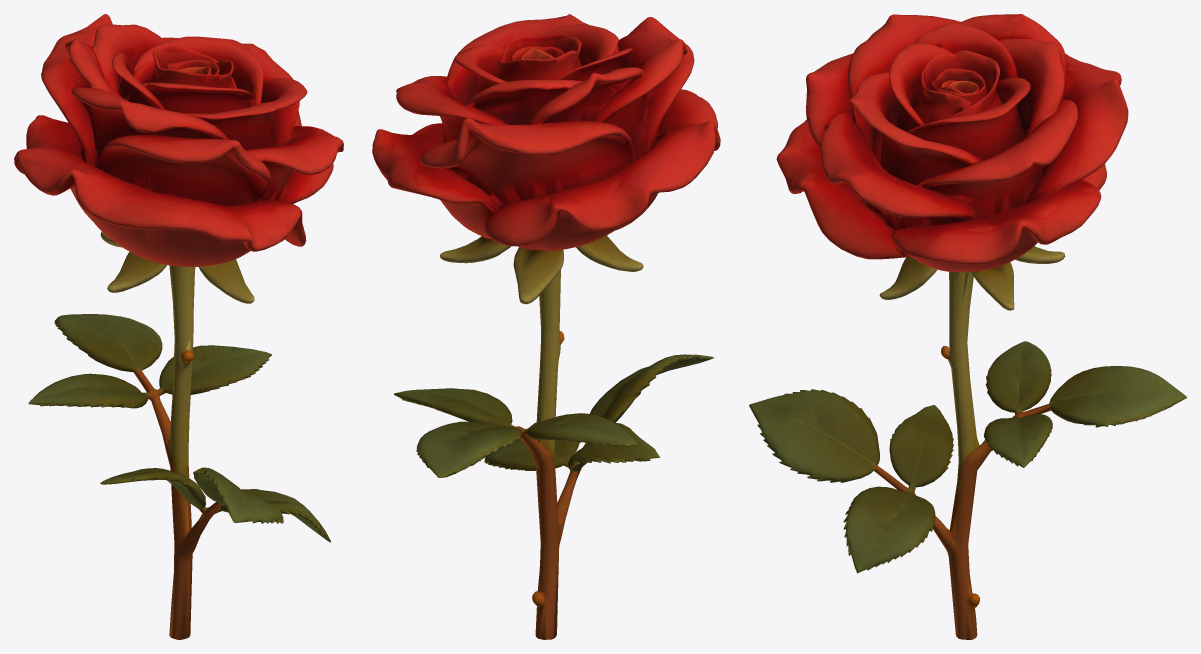
The model's file is Red Rose.glb.
3 renders of one model, left to right at view 1: azimuth 30°, elevation 25°; view 2: azimuth 150°, elevation 25°; view 3: azimuth 270°, elevation 25°, orthographic. The views are drawn at different scales.
Parts seen in each view (by area): view 1: tripo_node_635f2390-5574-46a5-b2e3-dae021576204; view 2: tripo_node_635f2390-5574-46a5-b2e3-dae021576204; view 3: tripo_node_635f2390-5574-46a5-b2e3-dae021576204.
Part boxes in pixels (<box>): tripo_node_635f2390-5574-46a5-b2e3-dae021576204: <box>14,14,343,639</box>; tripo_node_635f2390-5574-46a5-b2e3-dae021576204: <box>372,14,720,639</box>; tripo_node_635f2390-5574-46a5-b2e3-dae021576204: <box>749,14,1186,639</box>.
Size of the model in its own units: 0.4958 by 0.978 by 0.6625.
Materials: 1 (1 with a texture image).
